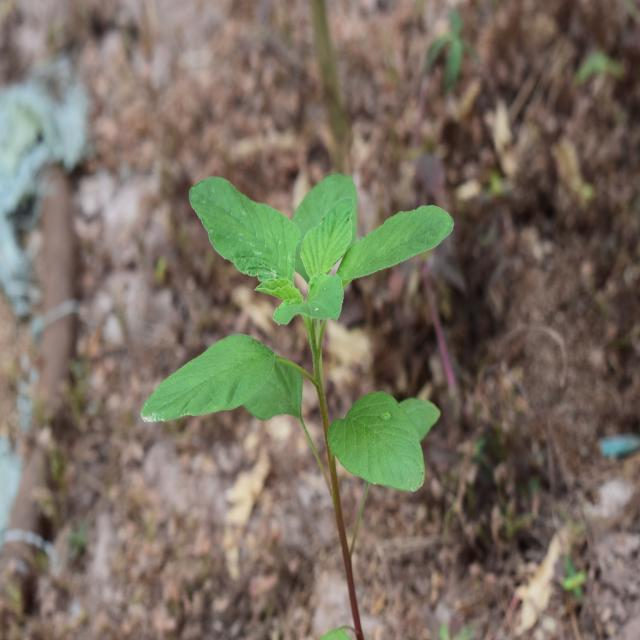pigweed: (166, 149, 432, 524)
